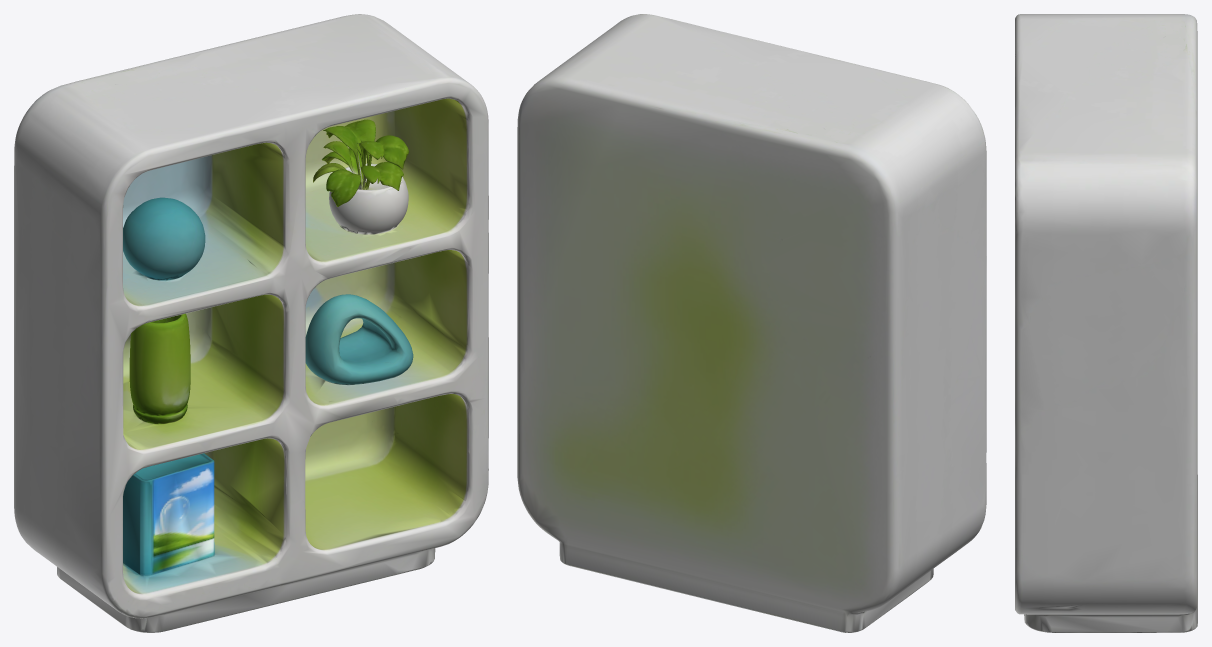
Rendered from deco-shelf.glb.
3 renders of one model, left to right at view 1: azimuth 30°, elevation 25°; view 2: azimuth 150°, elevation 25°; view 3: azimuth 270°, elevation 25°, orthographic. The views are drawn at different scales.
Parts seen in each view (by area): view 1: material; view 2: material; view 3: material.
Boxes of the visible parts, x1=… form: material: x1=14, y1=14, x2=488, y2=632; material: x1=517, y1=14, x2=986, y2=632; material: x1=1015, y1=14, x2=1197, y2=632.
Size of the model in its own units: 0.7938 by 0.9583 by 0.3346.
1 material, 1 textured.
